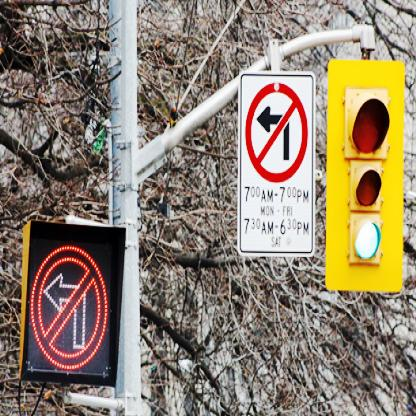No left turn: (245, 78, 310, 180)
